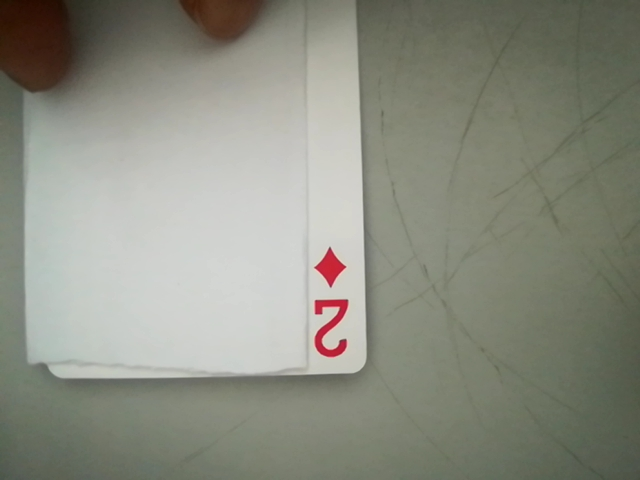fk 2: (297, 241, 362, 367)
